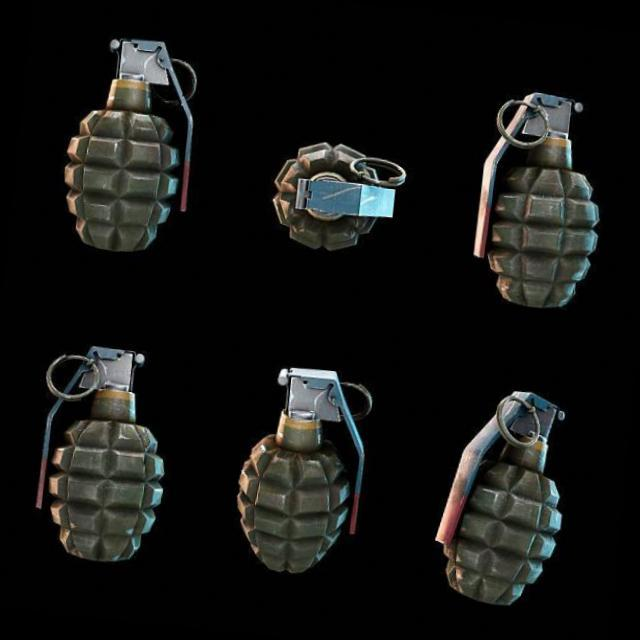grenade: (51, 9, 212, 264), (23, 334, 184, 574), (422, 380, 588, 607), (222, 355, 382, 586), (457, 83, 617, 312), (255, 129, 420, 260)
